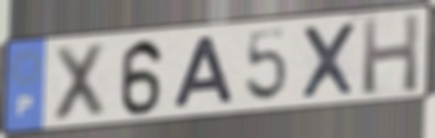5: (241, 26, 290, 104)
6: (118, 36, 167, 117)
A: (170, 34, 237, 111)
H: (360, 10, 422, 97)
X: (50, 40, 109, 125), (299, 19, 359, 101)
